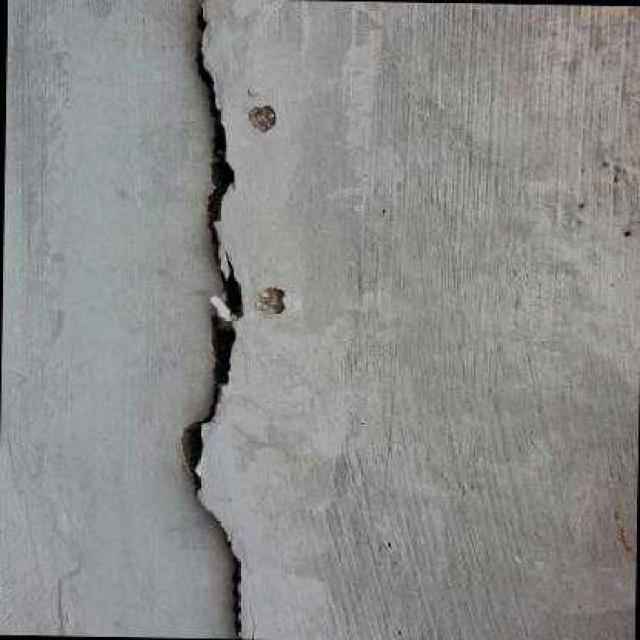D00: (174, 0, 247, 639)
